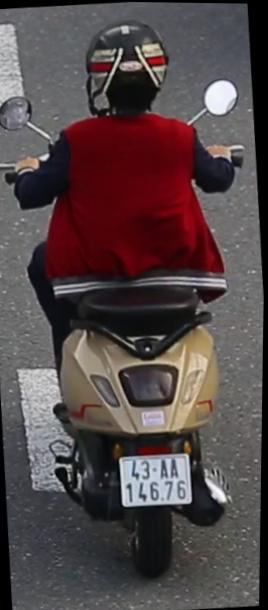LP: (115, 442, 199, 515)
helmet: (78, 8, 169, 119)
